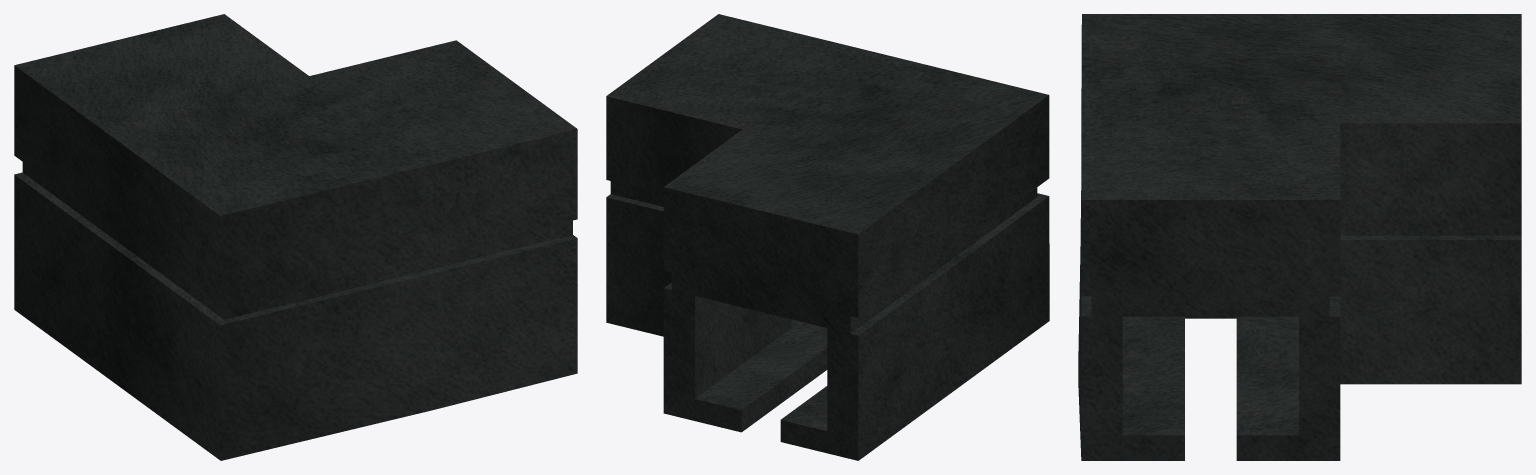
Rendered from Rail_c.fbx.
3 renders of one model, left to right at view 1: azimuth 30°, elevation 25°; view 2: azimuth 150°, elevation 25°; view 3: azimuth 270°, elevation 25°, orthographic. The views are drawn at different scales.
Parts seen in each view (by area): view 1: Box001; view 2: Box001; view 3: Box001.
Boxes of the visible parts, bbox=[...] form: Box001: bbox=[14, 14, 577, 460]; Box001: bbox=[606, 14, 1049, 460]; Box001: bbox=[1078, 14, 1521, 460].
Bounding box in the file's own units: 85 × 55.57 × 85.57.
